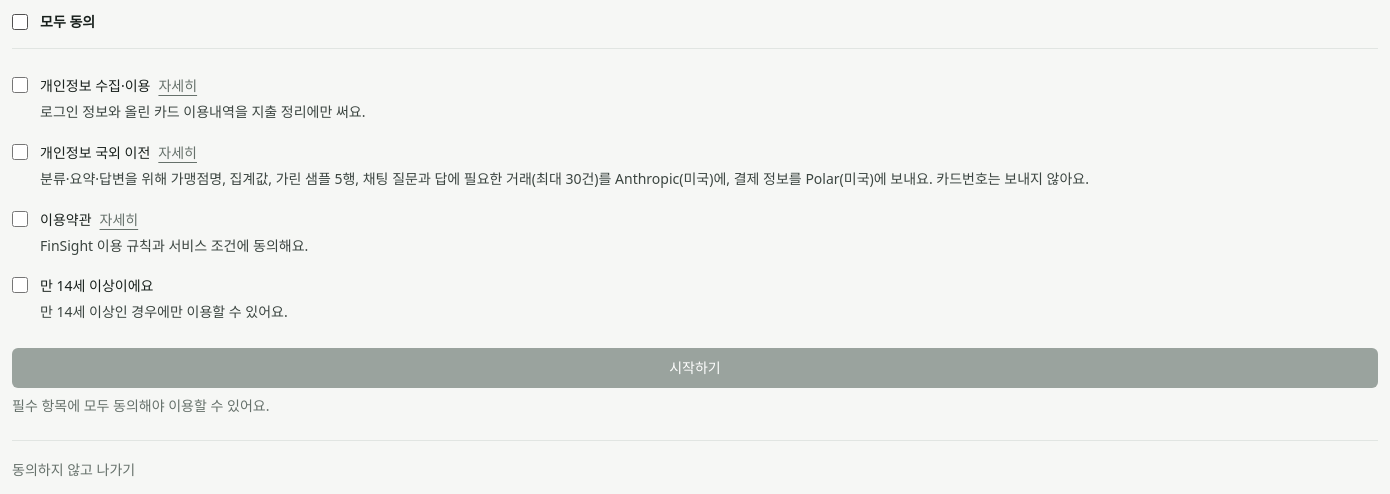
Test case: ConsentForm › 동의 저장에 실패하면 완료 이벤트를 보내지 않는다
Click the checkbox labelled "모두 동의" at (20, 22), box [12, 14, 28, 30]
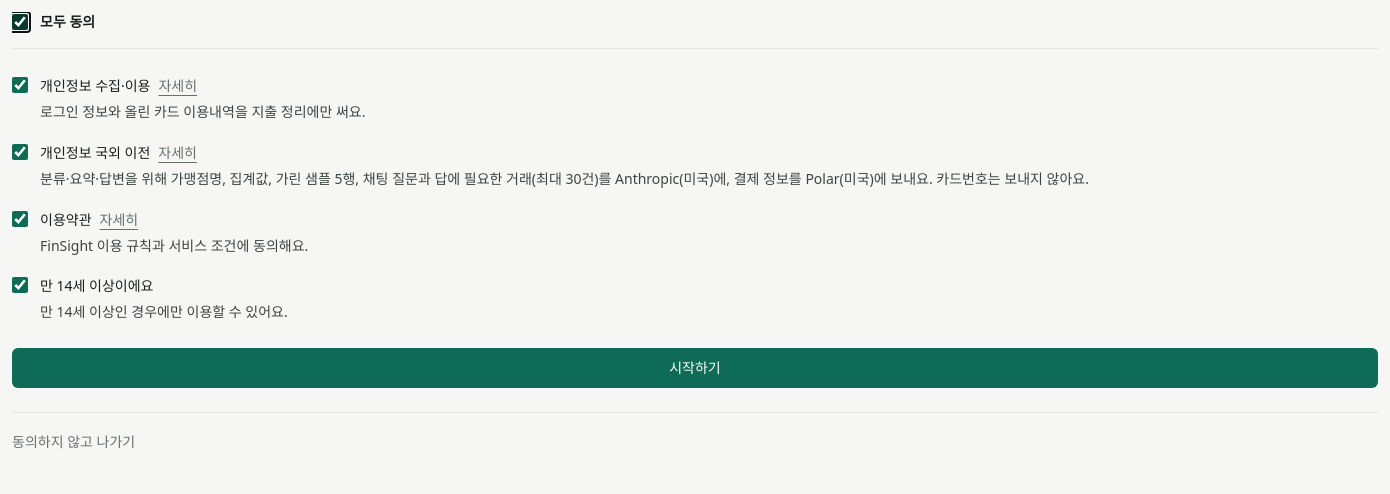
Click the button "시작하기" at (695, 368), box [12, 348, 1378, 388]
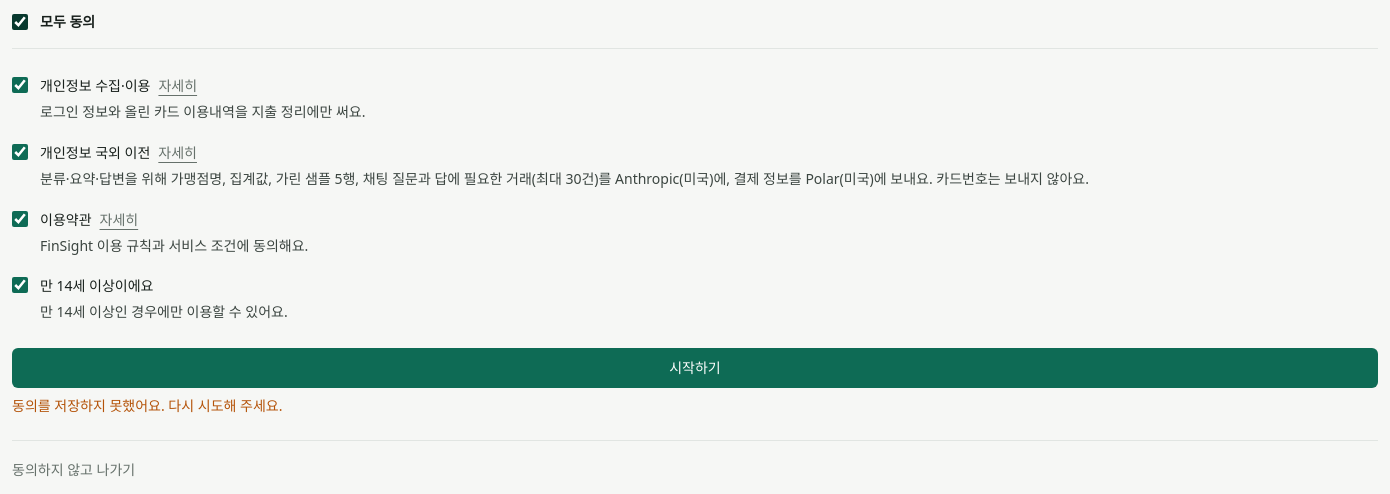
Result: the message shows "동의를 저장하지 못했어요." at [12, 396, 282, 415]
